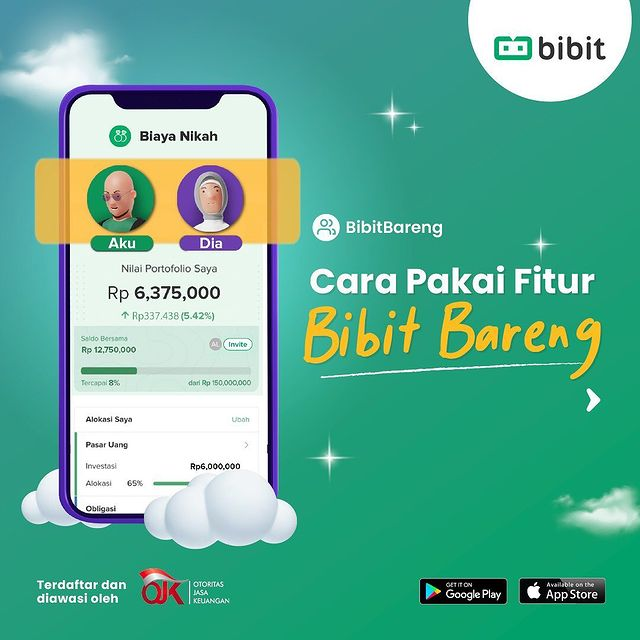ojk: (133, 565, 244, 613)
